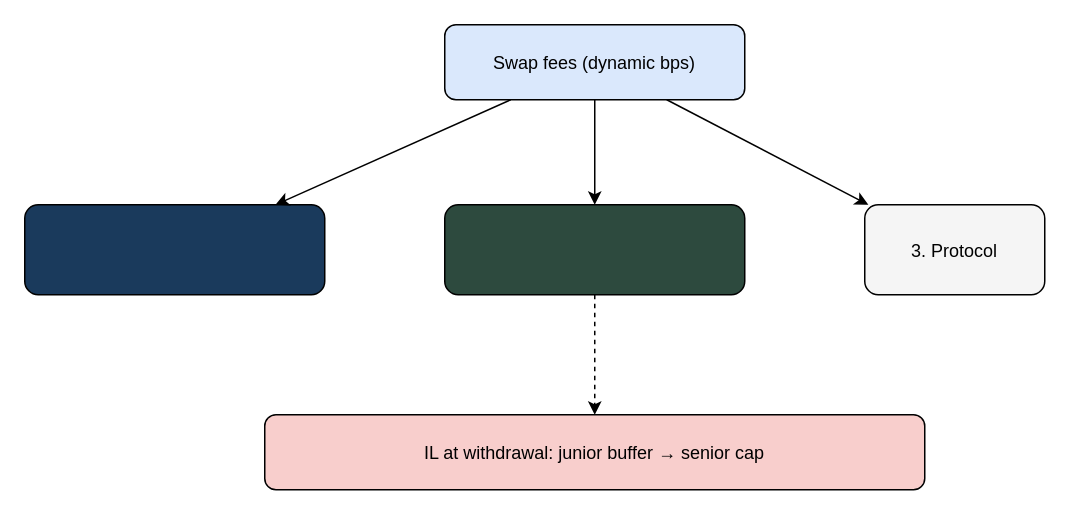
The diagram is 1070 pixels wide and 515 high, and some of its shapes have lost their labels. The shapes that lost their labels are listed below. From the top down, each one's centre as x and y in pixels, then its label:
At (174,249): "1. Senior obligation epochSeniorFunded".
At (594,249): "2. Junior surplus juniorReserve + feePerShare".
